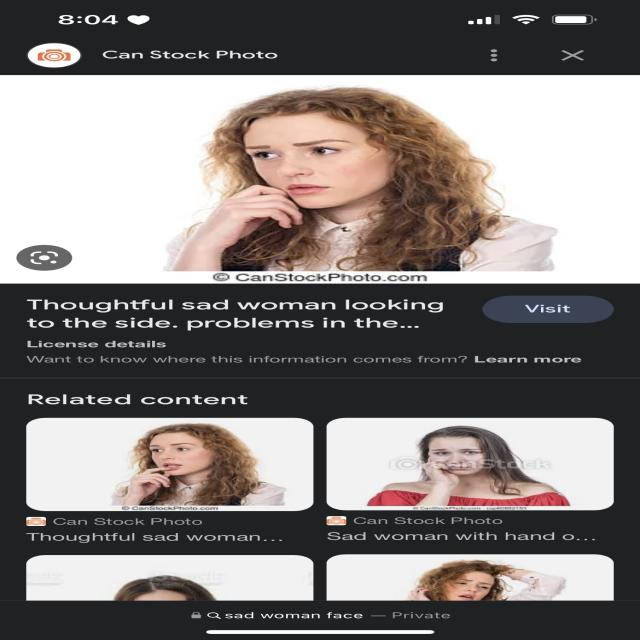natural: (232, 117, 439, 211)
